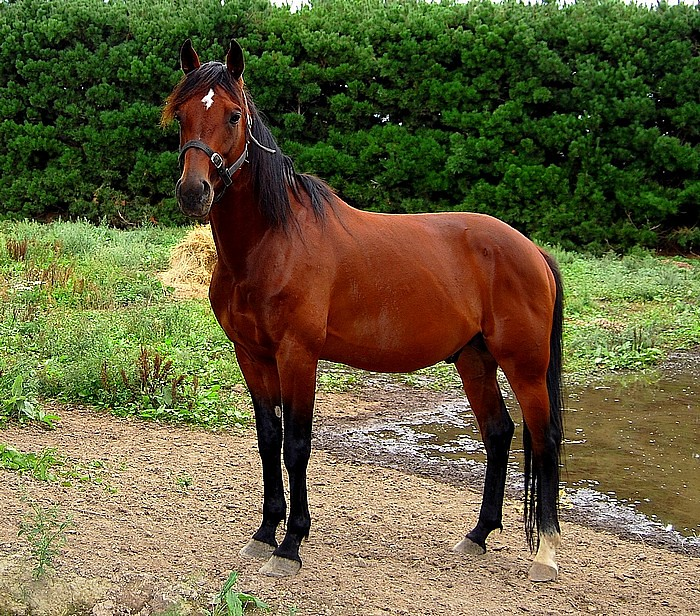horse: (112, 21, 614, 581)
